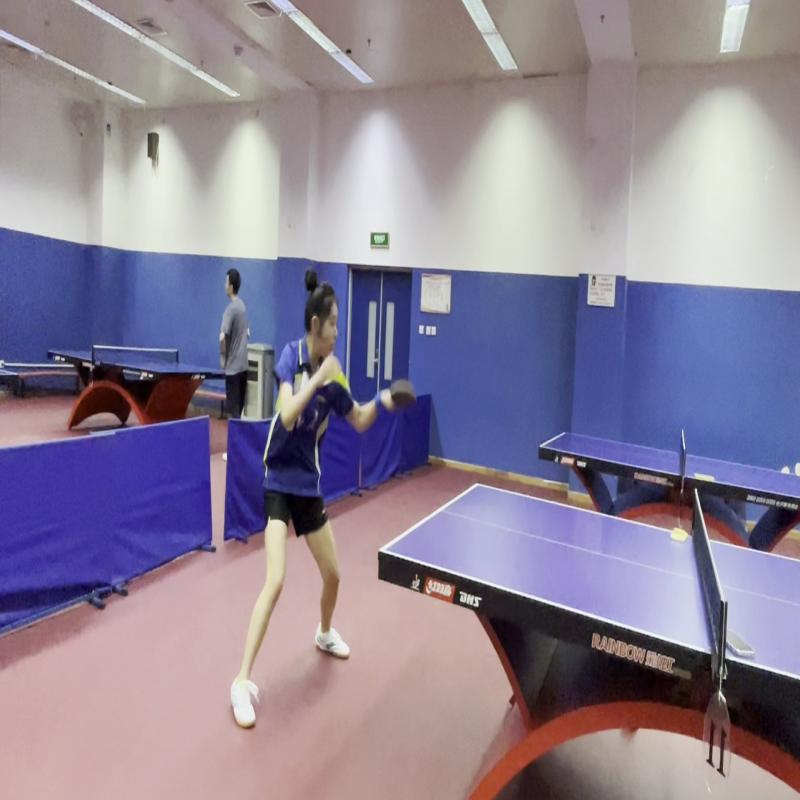bats: (377, 368, 419, 416)
